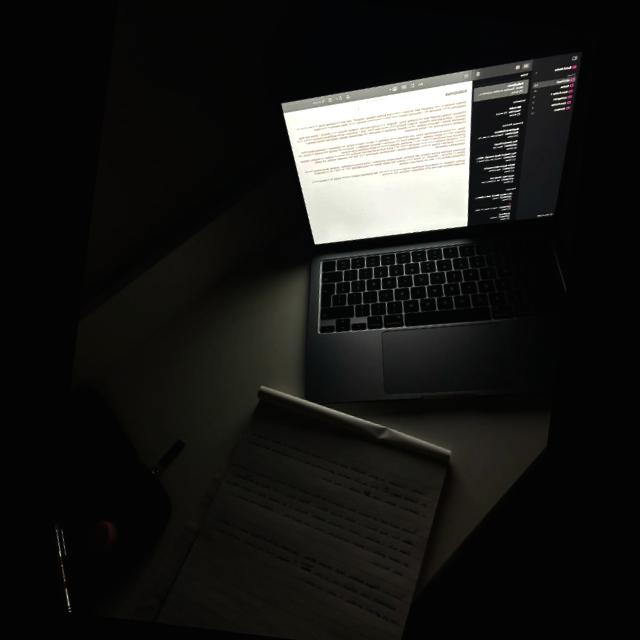laptop: (274, 20, 586, 425)
